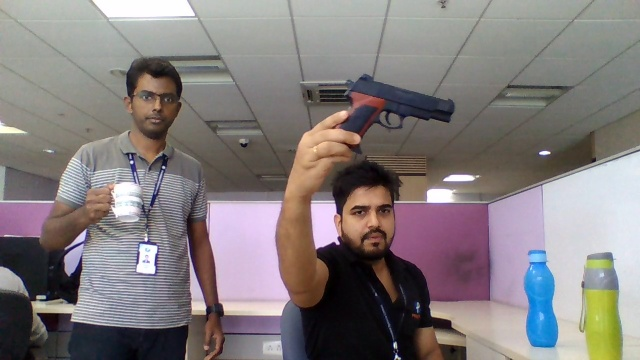gun: (344, 74, 454, 132)
